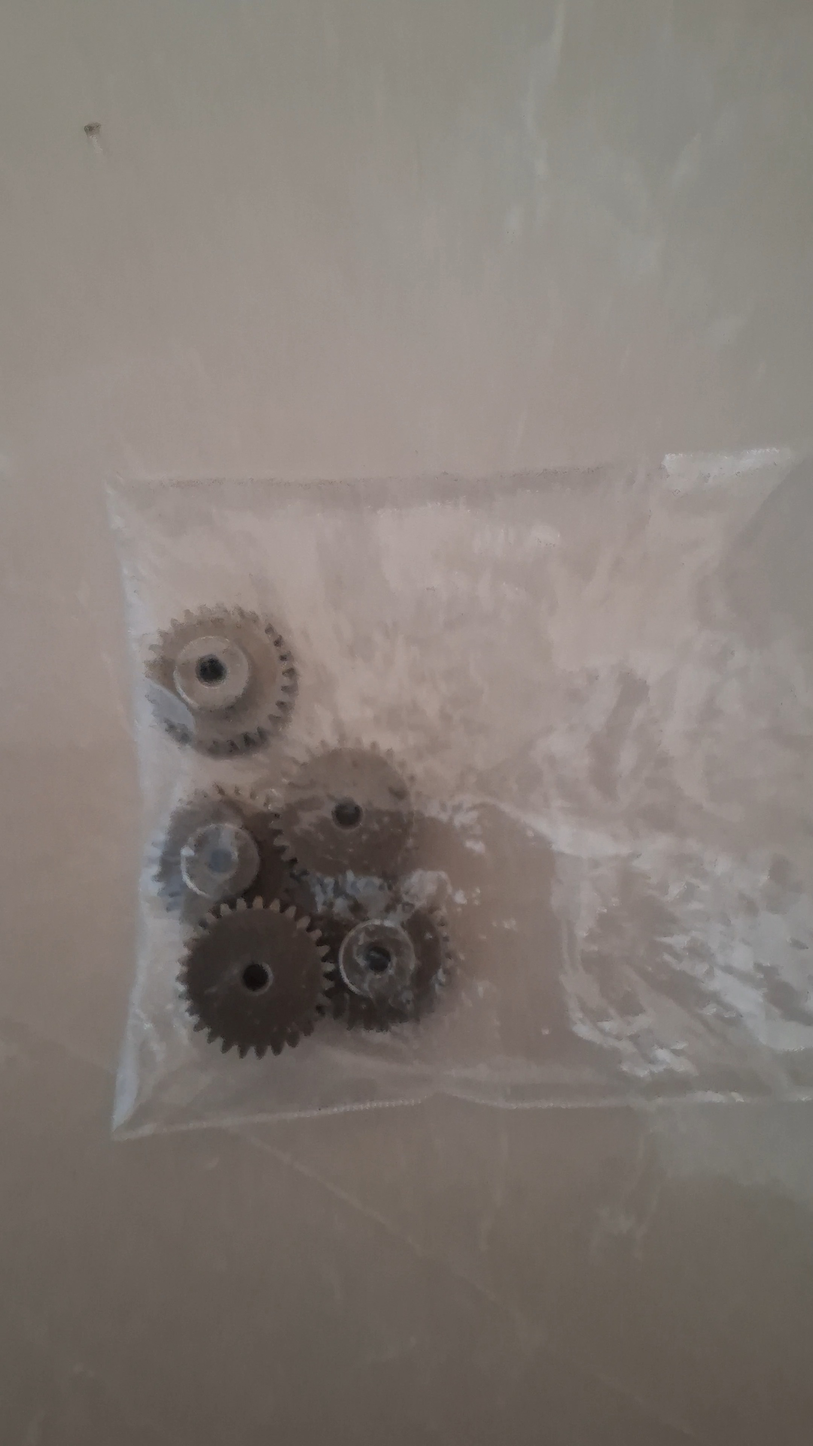spur gear: (179, 897, 326, 1057), (146, 608, 295, 755), (152, 786, 306, 923), (278, 747, 413, 877), (330, 907, 450, 1031)
